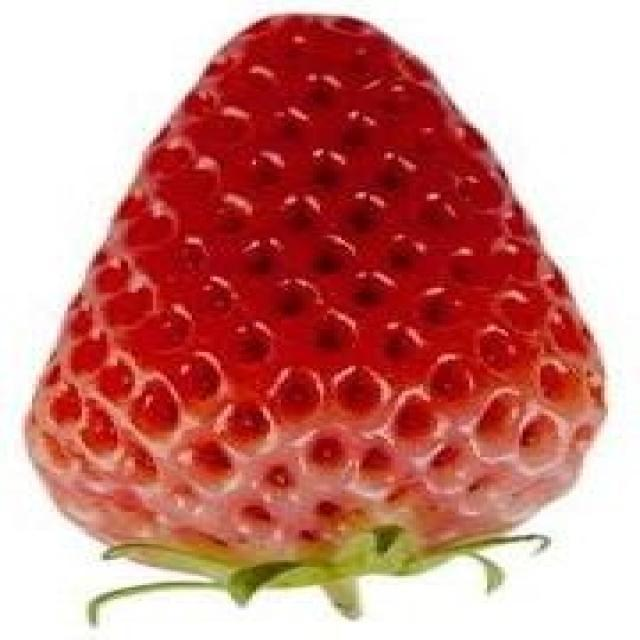strawberry: (22, 14, 609, 568)
